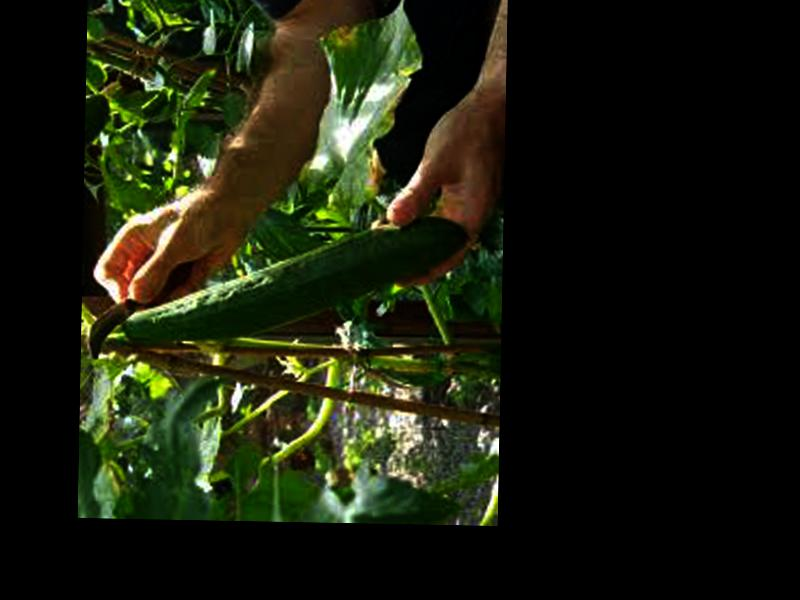Cucumber: (124, 212, 467, 350)
